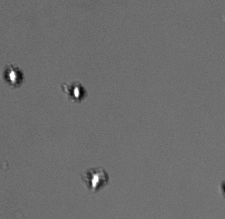Living Cell: (83, 165, 107, 193), (5, 66, 24, 88), (69, 82, 85, 101)
